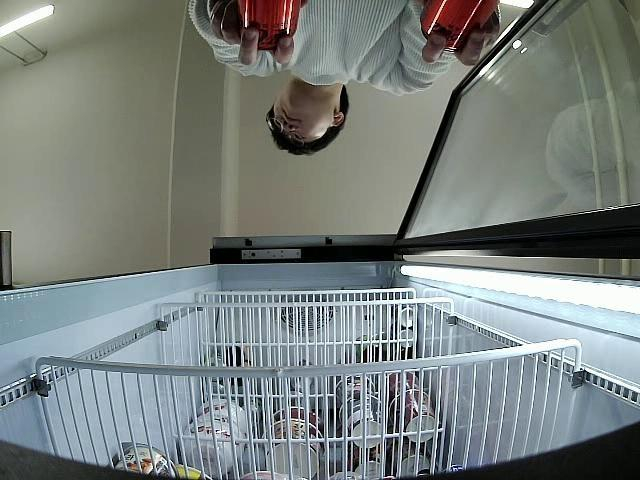11_cocaColaZero: (420, 0, 500, 53), (222, 0, 300, 51)
